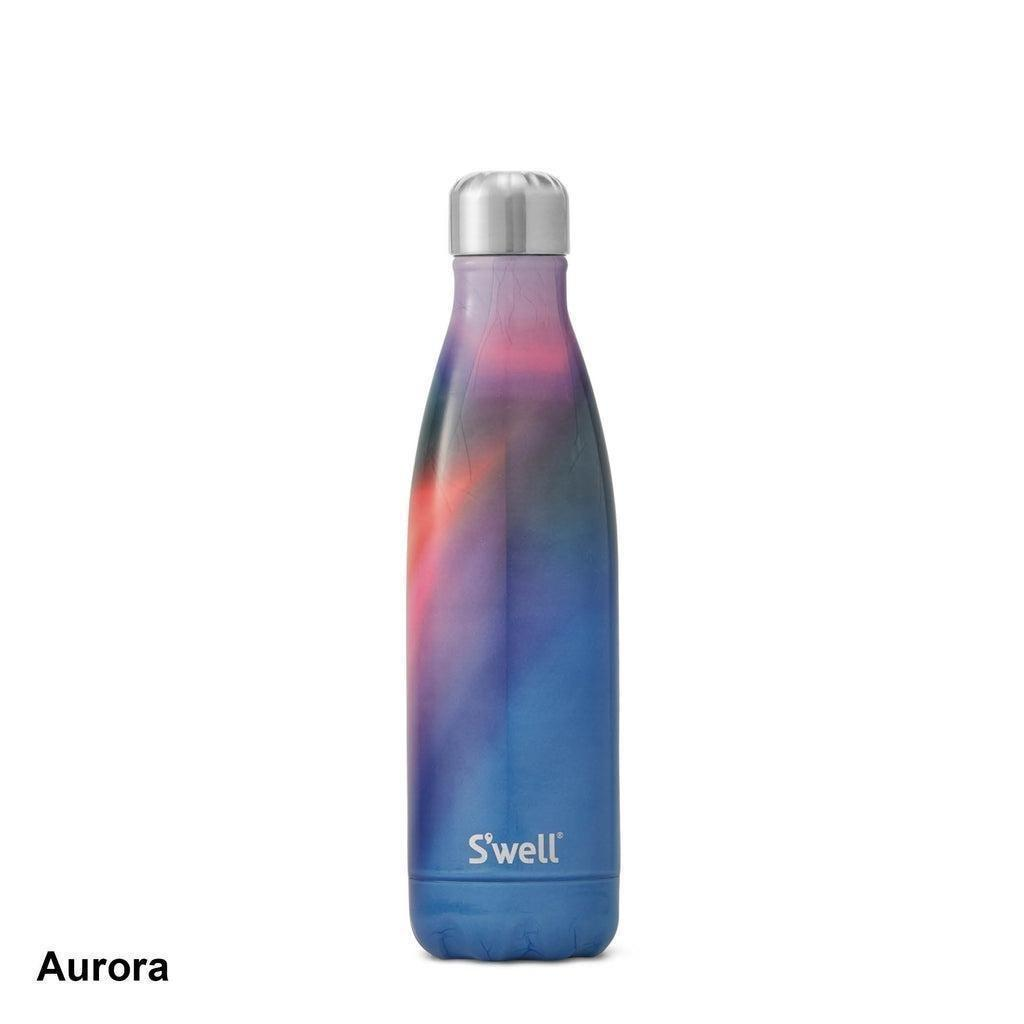gym bottle: (399, 164, 628, 969)
